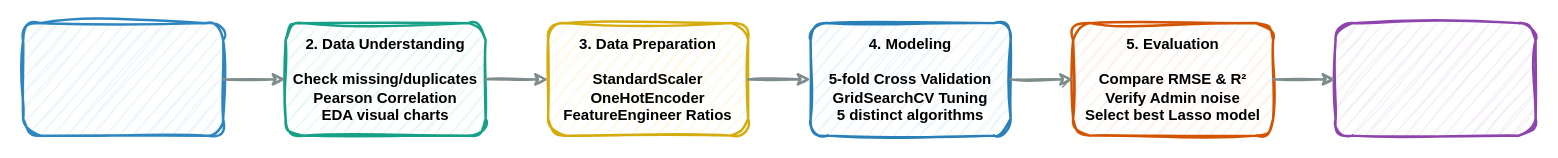
Some shapes in this 1558 by 158 pixel diagram are drawn without their labels. The shapes that lost their labels are listed below. From the top down, each one's centre as x and y in pixels, then its label:
point 122,78: 1. Business Understanding Define Target: Profit Optimize Budget Scale
point 1435,78: 6. Deployment Export pickle model predict_profit() function Business Report
